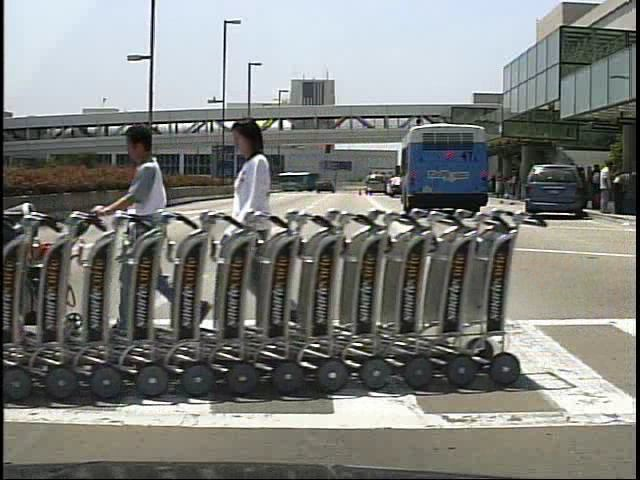person: (221, 114, 302, 350), (98, 120, 183, 339), (597, 160, 617, 215), (589, 164, 606, 214)
